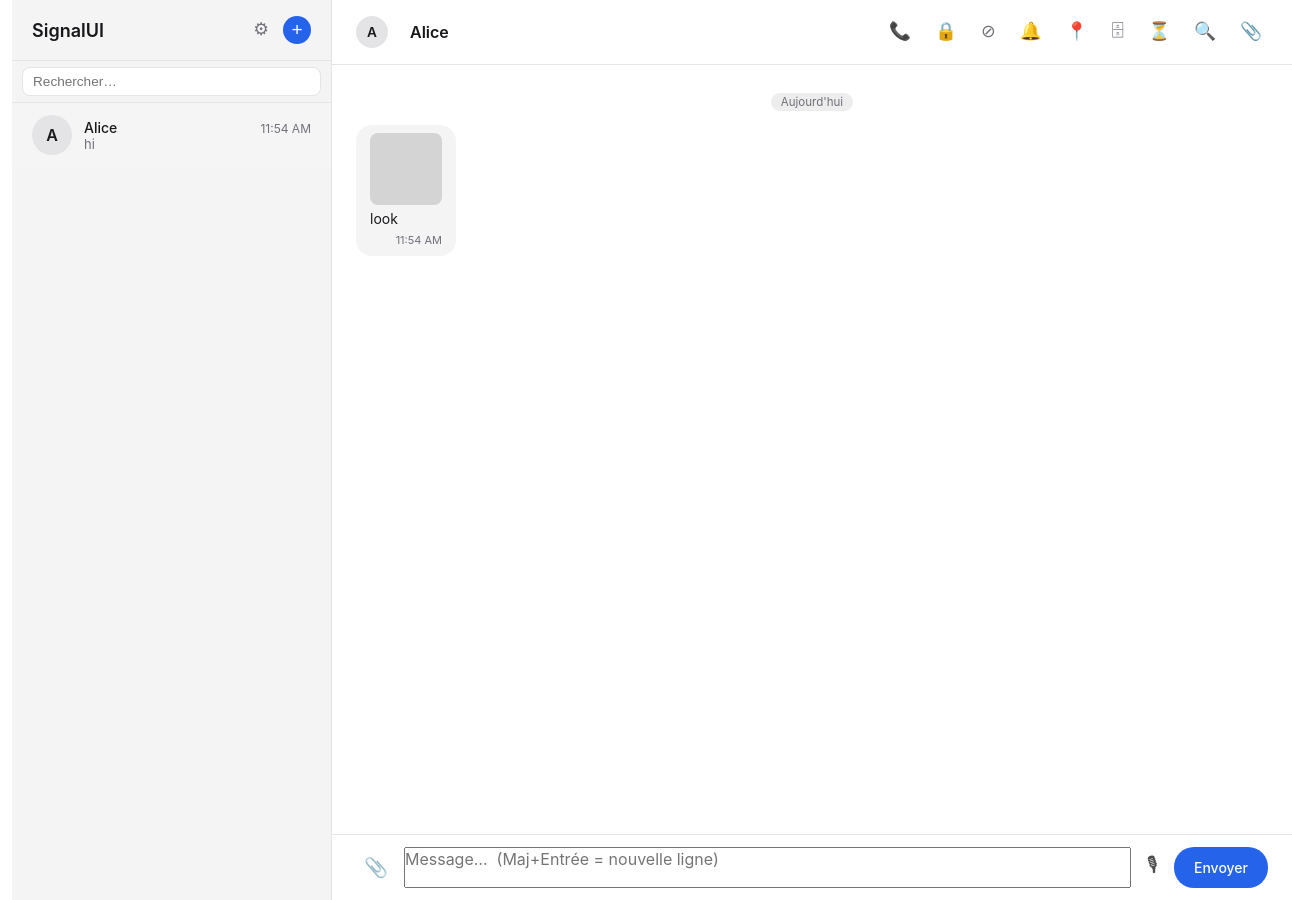
Test: ChatLayout attachments › renders a generic file row for non-image attachments
Click the button "A Alice 11:54 AM hi": (52, 135) [12, 103, 331, 167]
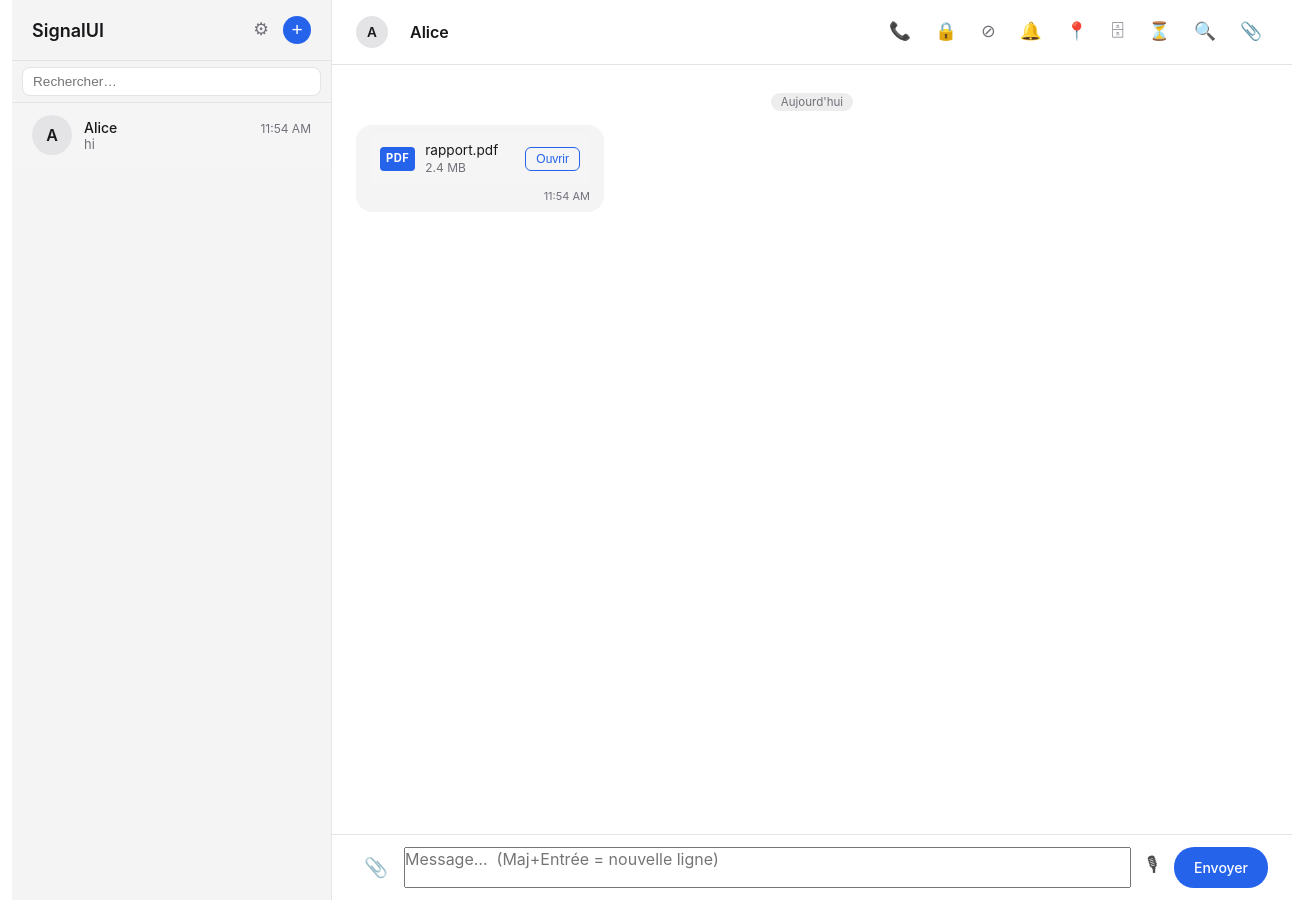
Expected: the element with test id "attachment-file" is shown, [370, 133, 590, 185]
Expected: the element with test id "attachment-file" shows "rapport.pdf", [425, 142, 498, 158]
Expected: the element with test id "attachment-file" shows "PDF", [386, 151, 409, 165]
